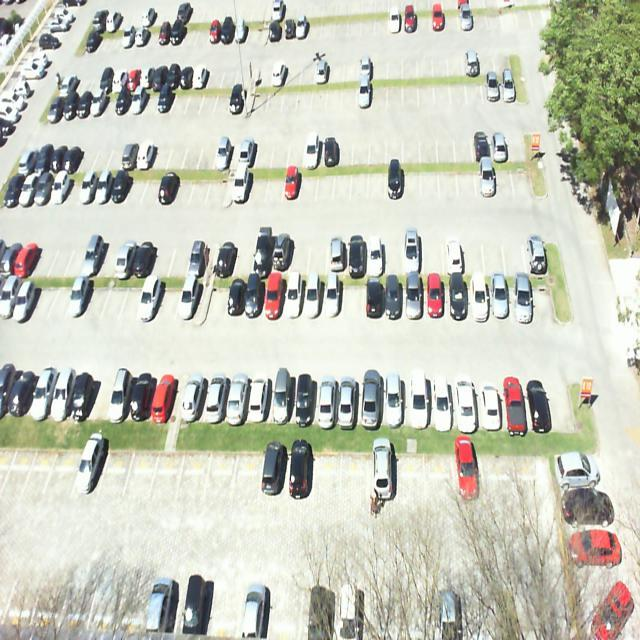space-empty: (94, 445, 132, 502), (123, 442, 158, 502), (148, 444, 182, 500), (43, 445, 78, 499), (231, 451, 264, 504), (545, 370, 576, 426), (204, 448, 238, 498), (175, 445, 208, 496), (312, 451, 342, 507), (21, 446, 55, 494), (117, 271, 146, 322), (83, 371, 112, 421), (154, 274, 180, 324), (530, 270, 557, 318), (101, 270, 125, 320), (483, 227, 507, 275), (205, 273, 225, 327), (148, 237, 172, 278), (188, 164, 211, 206), (167, 238, 192, 276), (505, 227, 526, 272), (425, 229, 445, 276), (139, 165, 162, 205), (511, 156, 534, 196), (287, 234, 310, 274), (172, 165, 193, 208), (382, 231, 404, 272), (229, 238, 252, 277), (204, 166, 226, 206), (464, 228, 484, 272), (307, 234, 328, 273), (345, 275, 362, 320), (458, 162, 478, 198), (299, 166, 317, 205), (494, 160, 514, 195), (267, 166, 284, 207), (250, 166, 268, 204), (368, 162, 386, 200), (422, 163, 440, 198), (333, 165, 350, 202), (403, 163, 420, 198), (440, 162, 458, 195), (316, 166, 332, 200), (351, 164, 367, 198)
space-occupied: (71, 446, 106, 501), (499, 373, 528, 432), (223, 370, 254, 424), (259, 448, 290, 500), (523, 371, 550, 428), (64, 367, 93, 420), (476, 372, 502, 429), (222, 272, 249, 326), (288, 449, 314, 504), (106, 371, 134, 422), (452, 374, 479, 426), (136, 267, 162, 320), (428, 375, 454, 428), (127, 370, 154, 420), (312, 372, 336, 428), (268, 373, 294, 424), (203, 370, 229, 420), (246, 372, 272, 422), (262, 270, 286, 324), (148, 374, 175, 422), (359, 371, 382, 426), (174, 272, 198, 324), (382, 371, 405, 424), (241, 275, 265, 325), (335, 373, 359, 423), (290, 372, 313, 424), (405, 374, 428, 426), (486, 273, 511, 320), (181, 373, 206, 418), (443, 226, 466, 273), (130, 236, 156, 276), (113, 238, 140, 276), (509, 276, 532, 320), (303, 276, 324, 324), (155, 165, 178, 208), (525, 229, 548, 272), (444, 277, 467, 320), (467, 275, 488, 322), (363, 276, 384, 322), (282, 276, 302, 324), (322, 277, 343, 322), (188, 239, 212, 278), (404, 226, 424, 272), (404, 274, 424, 320), (426, 276, 446, 322), (231, 164, 252, 205), (213, 239, 236, 276), (384, 276, 402, 322), (345, 231, 364, 274), (268, 236, 290, 272), (251, 235, 272, 272), (324, 235, 344, 273), (364, 235, 383, 273), (478, 158, 496, 198), (283, 164, 300, 205), (388, 162, 404, 200)
